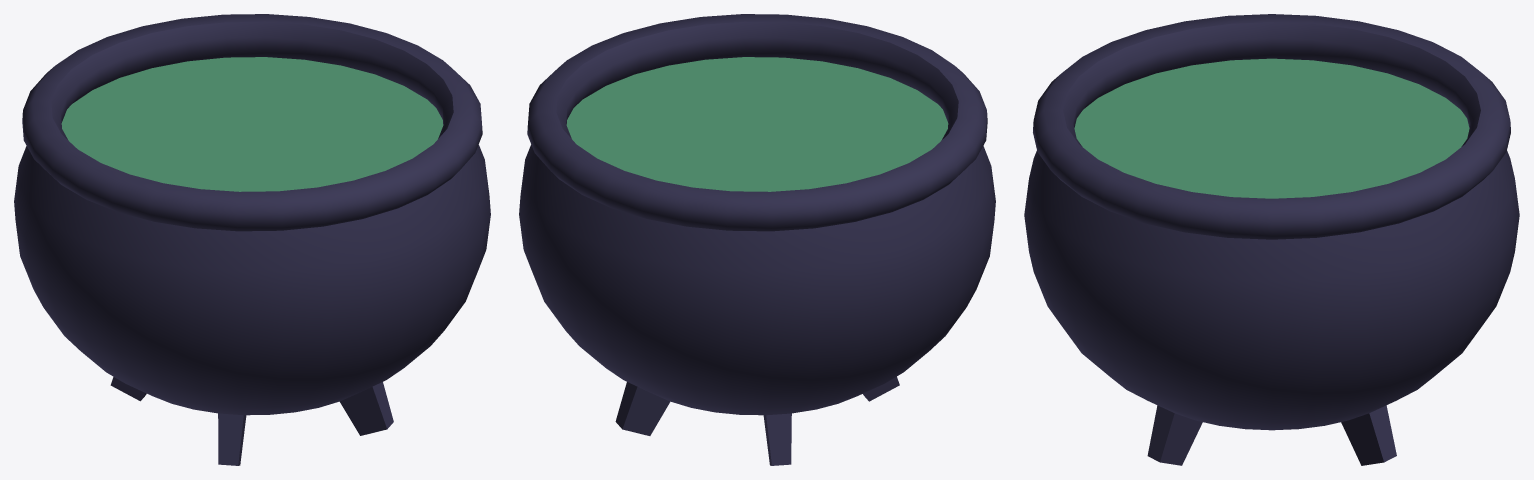
File: caldron.dae
3 views of the same model, side by side, from view 1: azimuth 30°, elevation 25°; view 2: azimuth 150°, elevation 25°; view 3: azimuth 270°, elevation 25° (orthographic). The views are drawn at different scales.
Visible parts, largest first — view 1: Sphere; view 2: Sphere; view 3: Sphere.
Part boxes in pixels (x1,y1,x2,y2): Sphere: (14,14,490,465); Sphere: (519,14,995,465); Sphere: (1024,14,1519,465).
Size of the model in its own units: 2 by 2 by 1.43.
